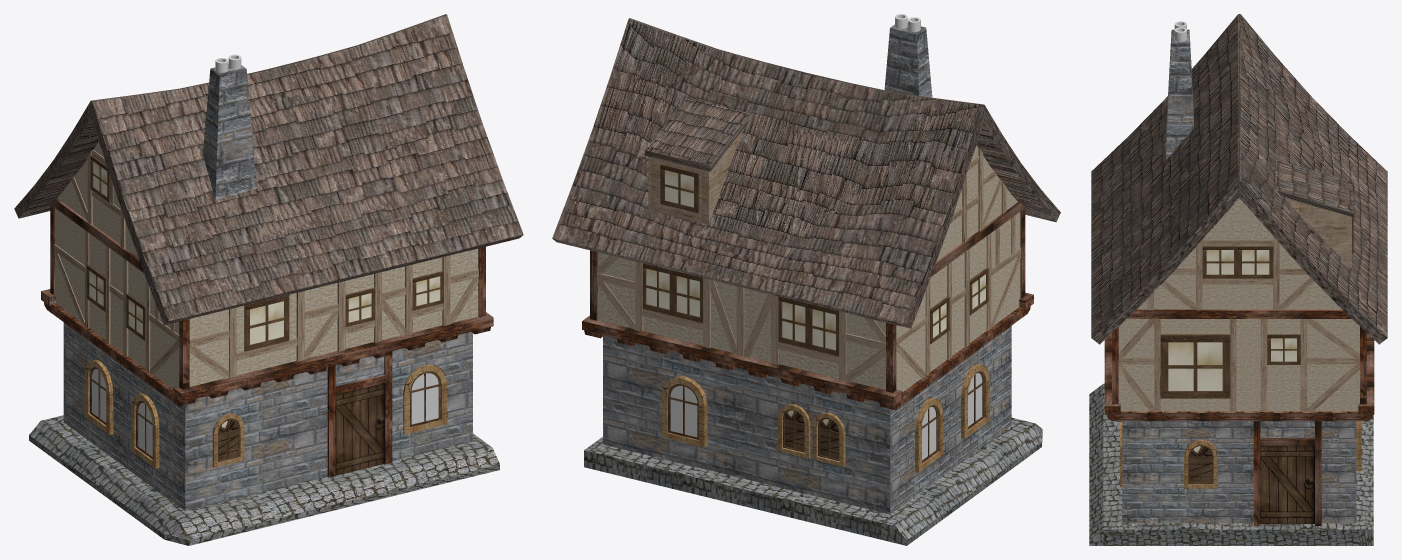
Rendered from medievalhouseBackup.fbx.
3 renders of one model, left to right at view 1: azimuth 30°, elevation 25°; view 2: azimuth 150°, elevation 25°; view 3: azimuth 270°, elevation 25°, orthographic. The views are drawn at different scales.
Visible parts, largest first — view 1: Roof2, HouseBody, Cube.003, Cube.055, Cube.007, Cube.054, SecondFloorWindow2.006, WindowGlass4, WindowStoneFrame4, WindowStoneFrame2, SecondFloorWindow2.005, WindowStoneFrame3 (+14 smaller); view 2: Roof2, HouseBody, Cube.002, Cube.056, Cube.003, Cube.001, Cube.054, SecondFloorWindow1, WindowGlass5, SecondFloorWindow2.011, SecondFloorWindow2.013, SecondFloorWindow2.010 (+15 smaller); view 3: Roof2, HouseBody, SecondFloorWindow2, Cube.098, Cube.002, Cube.054, Cube.003, Cube.012, Cube.001, SecondFloorWindow2.002, SecondFloorWindow2.003, SecondFloorWindow2.001 (+21 smaller).
Part boxes in pixels (x1,y1,x2,y2): Roof2: [14, 14, 523, 324]; HouseBody: [29, 142, 499, 545]; Cube.003: [203, 64, 256, 199]; Cube.055: [173, 312, 493, 402]; Cube.007: [335, 383, 384, 475]; Cube.054: [44, 302, 490, 406]; SecondFloorWindow2.006: [244, 295, 289, 351]; WindowGlass4: [410, 371, 441, 427]; WindowStoneFrame4: [403, 364, 447, 434]; WindowStoneFrame2: [84, 359, 113, 434]; SecondFloorWindow2.005: [412, 271, 443, 310]; WindowStoneFrame3: [131, 393, 159, 468]; Roof2: [552, 18, 1060, 328]; HouseBody: [584, 145, 1042, 545]; Cube.002: [645, 98, 750, 171]; Cube.056: [582, 315, 902, 405]; Cube.003: [884, 23, 932, 97]; Cube.001: [648, 129, 742, 224]; Cube.054: [584, 306, 1030, 410]; SecondFloorWindow1: [660, 164, 698, 212]; WindowGlass5: [668, 384, 698, 439]; SecondFloorWindow2.011: [778, 296, 808, 349]; SecondFloorWindow2.013: [642, 263, 672, 315]; SecondFloorWindow2.010: [808, 304, 838, 356]; Roof2: [1091, 14, 1387, 344]; HouseBody: [1089, 198, 1373, 545]; SecondFloorWindow2: [1160, 334, 1230, 398]; Cube.098: [1260, 445, 1314, 523]; Cube.002: [1276, 160, 1354, 217]; Cube.054: [1106, 411, 1372, 421]; Cube.003: [1165, 29, 1193, 159]; Cube.012: [1127, 309, 1351, 318]; Cube.001: [1285, 198, 1351, 268]; SecondFloorWindow2.002: [1202, 246, 1237, 278]; SecondFloorWindow2.003: [1238, 246, 1273, 278]; SecondFloorWindow2.001: [1267, 334, 1300, 364].
Bounding box in the file's own units: 193 × 223 × 146.
